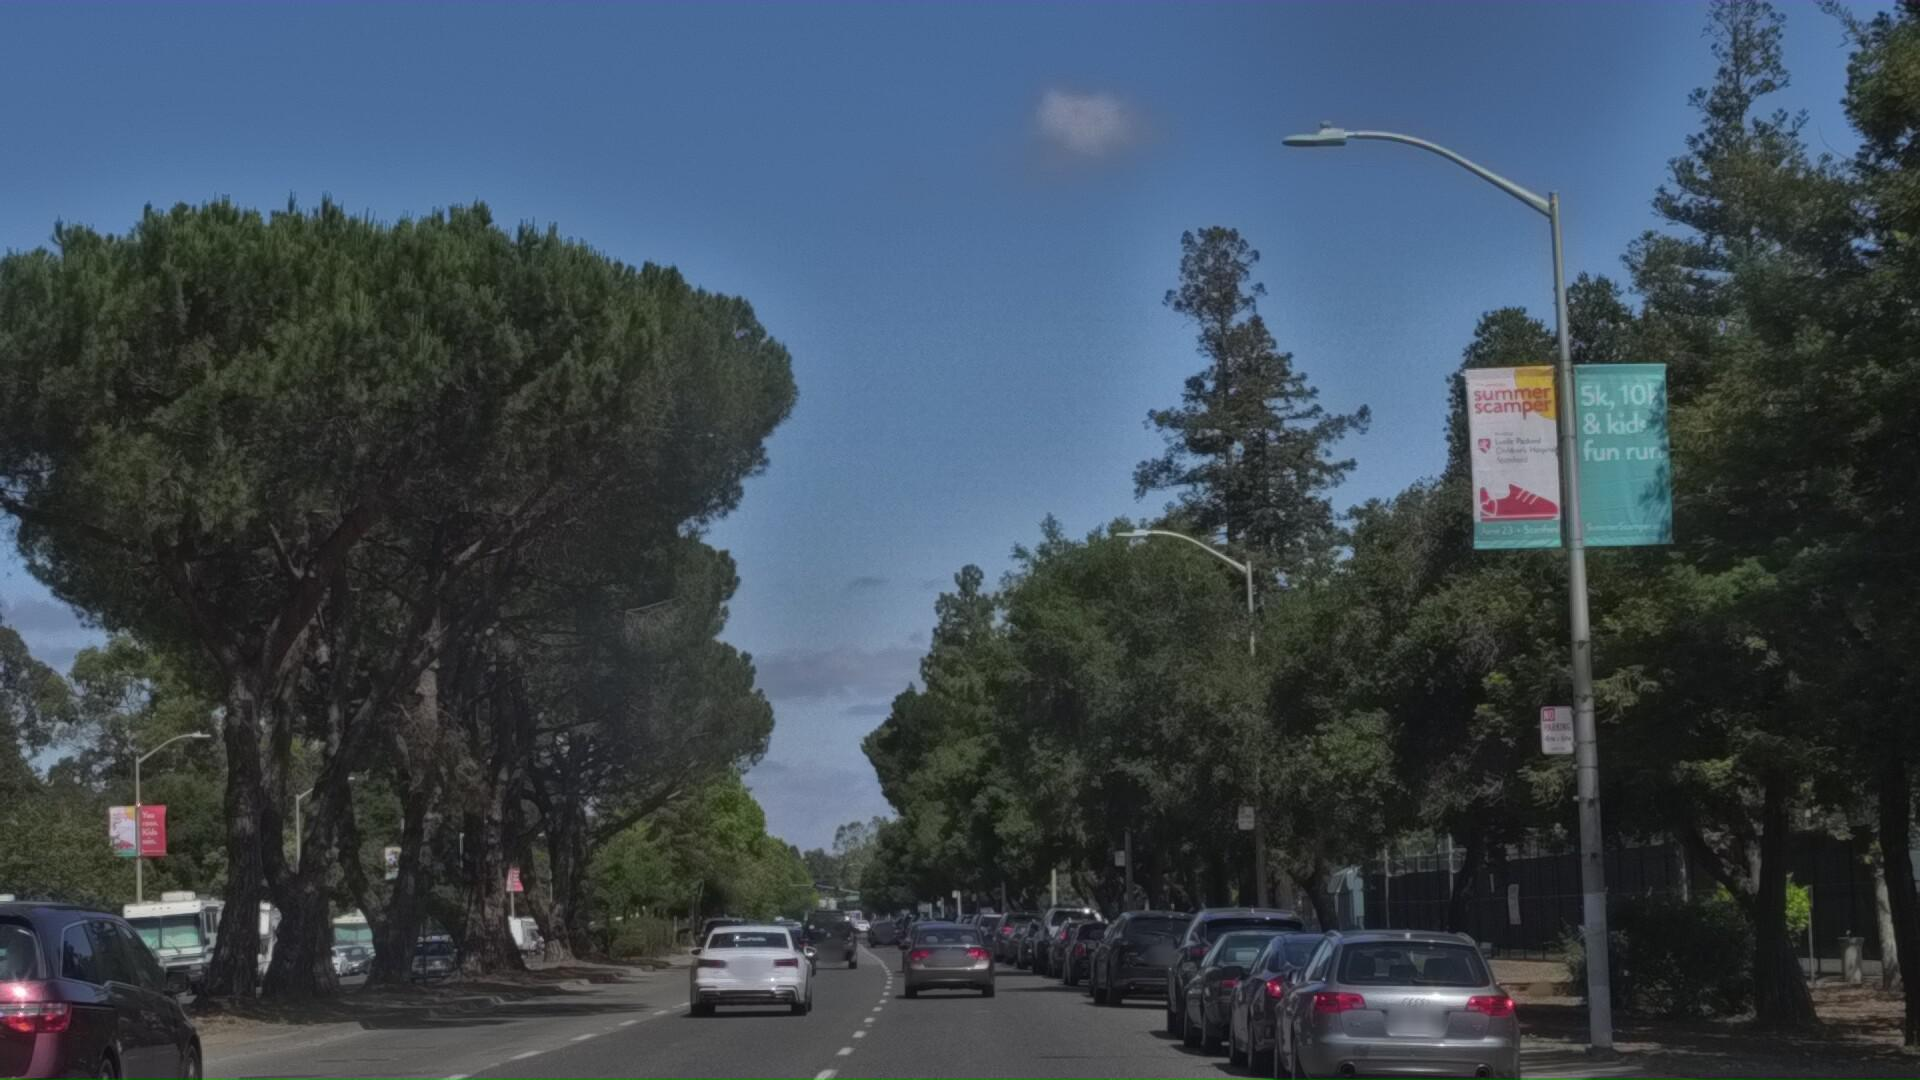car: (1266, 930, 1561, 1080), (1226, 932, 1466, 1080), (1182, 938, 1389, 1080), (1171, 918, 1341, 1068), (694, 948, 825, 1069), (1098, 923, 1222, 1033), (899, 957, 1007, 1072), (1069, 940, 1159, 1011)
